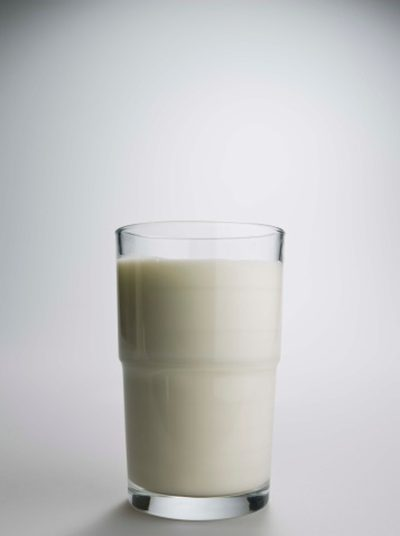glass of milk: (109, 208, 293, 521)
